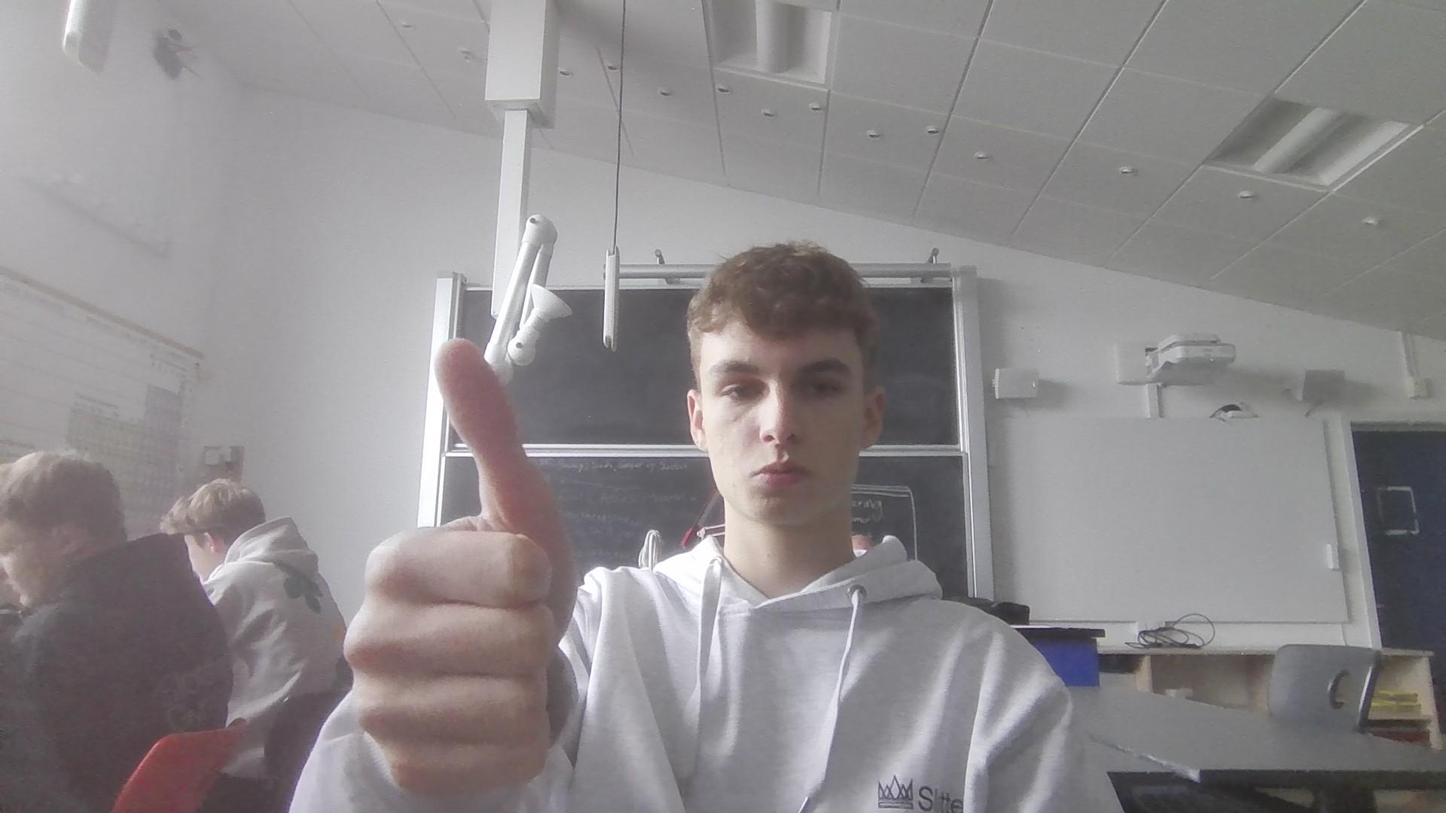thumbs up: (339, 332, 591, 797)
